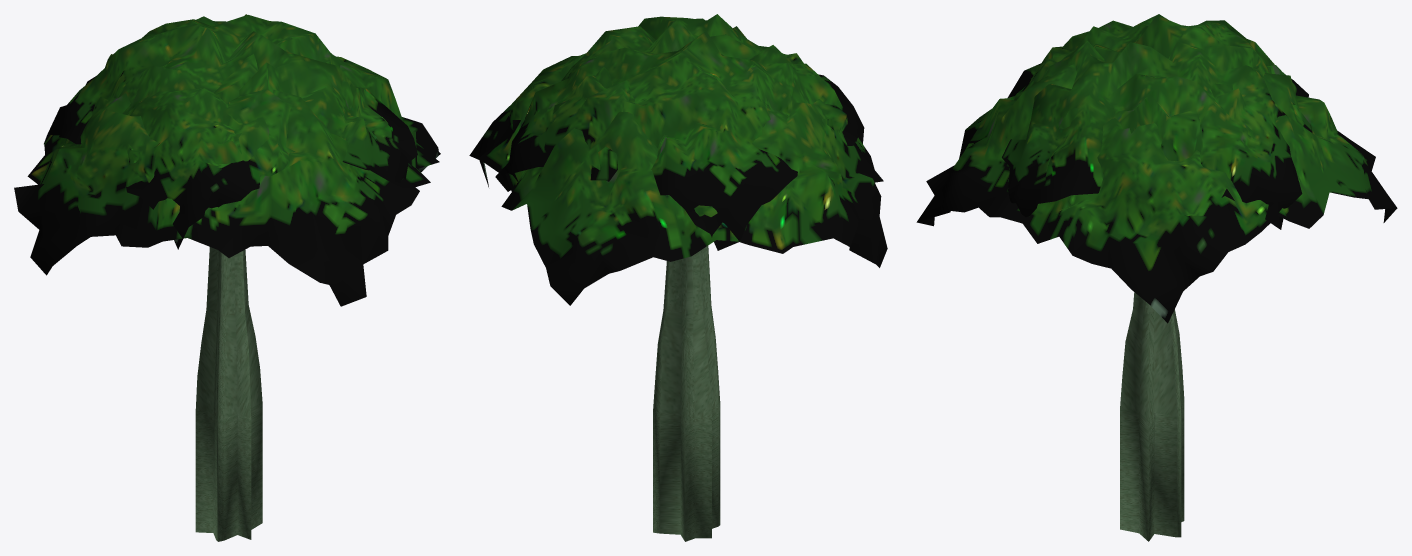
File: kapok_tree_4_1.dae
The picture shows the model from 3 angles, left to right: view 1: azimuth 30°, elevation 25°; view 2: azimuth 150°, elevation 25°; view 3: azimuth 270°, elevation 25°; orthographic projection.
Visible parts, largest first — view 1: Cube; view 2: Cube; view 3: Cube.
Boxes of the visible parts, left/top/right/bottom form: Cube: left=14, top=14, right=440, bottom=541; Cube: left=469, top=14, right=887, bottom=541; Cube: left=916, top=14, right=1397, bottom=541.
Bounding box in the file's own units: 0.8685 × 0.9014 × 1.04.
Materials: 1 (1 with a texture image).
